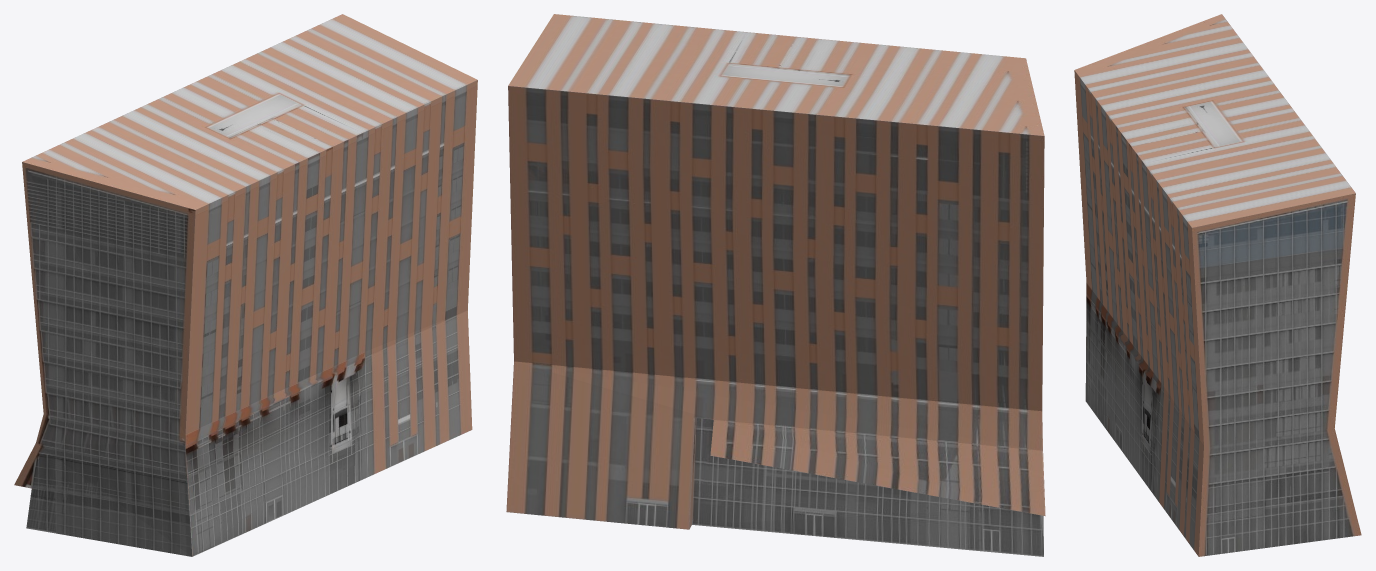
The picture shows the model from 3 angles, left to right: view 1: azimuth 30°, elevation 25°; view 2: azimuth 150°, elevation 25°; view 3: azimuth 270°, elevation 25°; orthographic projection. The views are drawn at different scales.
Visible parts, largest first — view 1: A.002; view 2: A.002; view 3: A.002.
Part boxes in pixels (x1,y1,x2,y2): A.002: (14,14,477,556); A.002: (506,14,1045,556); A.002: (1074,14,1361,556).
Bounding box in the file's own units: 63.92 × 50.26 × 38.18.
Materials: 1 (1 with a texture image).
